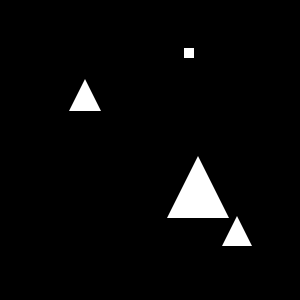circle: (184, 48, 194, 58)
triangle: (167, 156, 229, 218), (69, 79, 101, 111), (222, 216, 252, 246)
